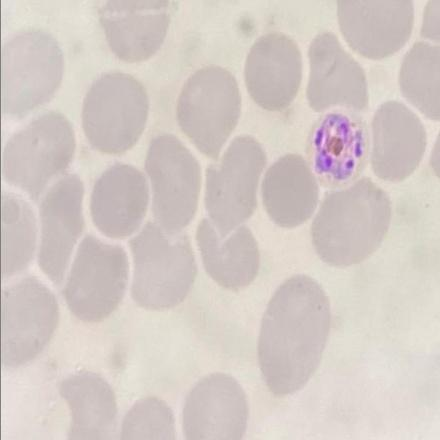Infected: (304, 104, 369, 190)
Uninfected: (260, 271, 335, 400), (0, 109, 76, 202), (312, 180, 390, 267), (203, 135, 264, 244), (178, 61, 241, 164), (147, 134, 205, 241), (62, 234, 130, 321), (0, 29, 65, 120), (80, 69, 147, 155), (127, 225, 193, 312), (38, 169, 87, 284), (0, 276, 56, 372), (304, 31, 368, 115), (94, 0, 172, 64), (241, 33, 303, 113), (194, 216, 260, 289), (180, 369, 247, 440), (369, 100, 424, 186), (260, 154, 319, 229), (339, 0, 416, 57), (91, 165, 150, 238)
